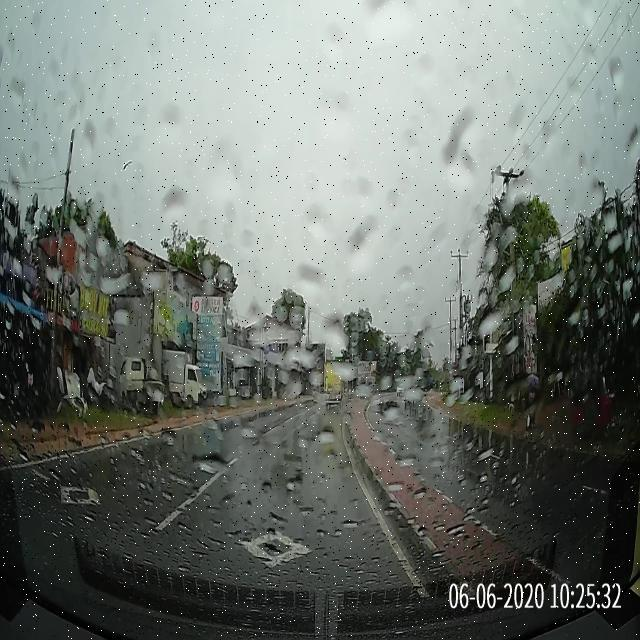diamond: (105, 498, 427, 590)
